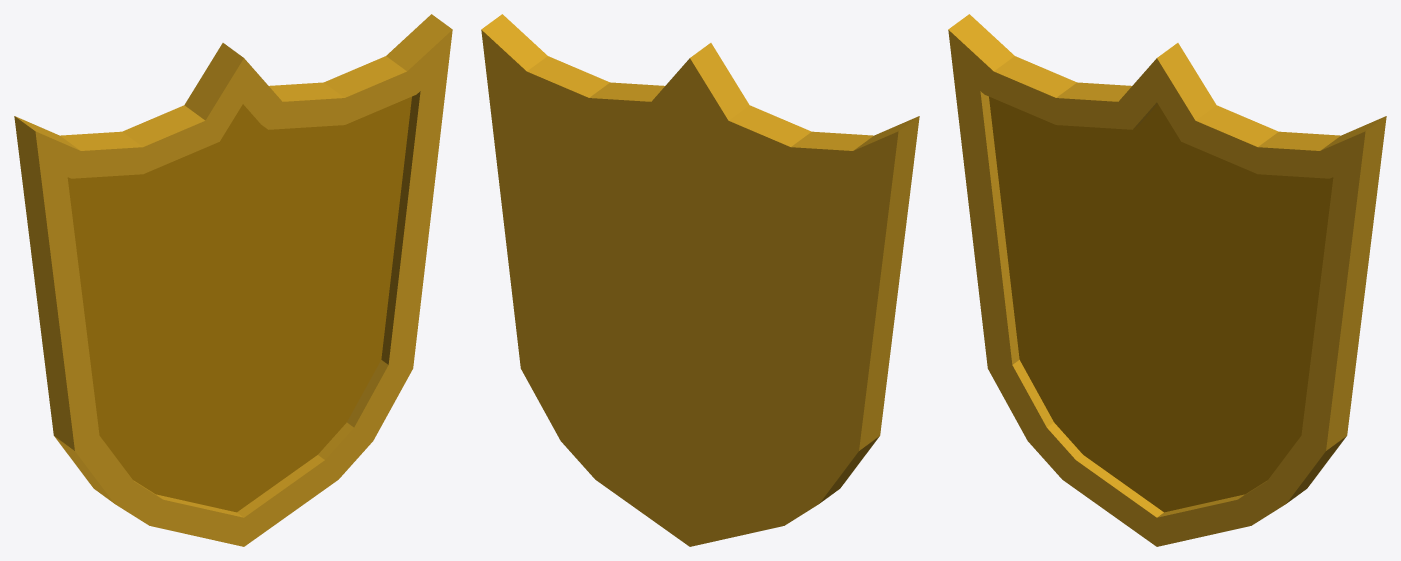
Rendered from Prop_Fantasy_Ornament_Shield_Plaque_01.FBX.
The picture shows the model from 3 angles, left to right: view 1: azimuth 30°, elevation 25°; view 2: azimuth 150°, elevation 25°; view 3: azimuth 330°, elevation 25°; orthographic projection.
Parts seen in each view (by area): view 1: Prop_Fantasy_Ornament_Shield_Plaque_01; view 2: Prop_Fantasy_Ornament_Shield_Plaque_01; view 3: Prop_Fantasy_Ornament_Shield_Plaque_01.
Part boxes in pixels (x1,y1,x2,y2): Prop_Fantasy_Ornament_Shield_Plaque_01: (14,14,452,546); Prop_Fantasy_Ornament_Shield_Plaque_01: (481,14,919,546); Prop_Fantasy_Ornament_Shield_Plaque_01: (948,14,1386,546).
Size of the model in its own units: 943 by 1056 by 82.86.
